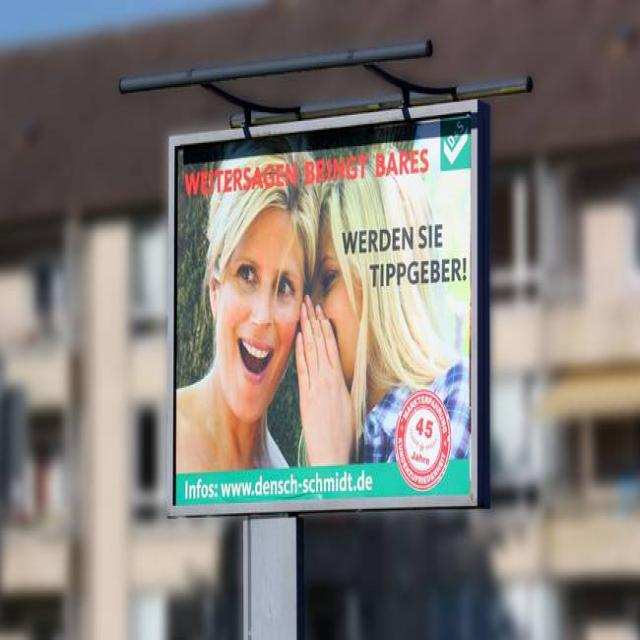Werbetafel frei: (164, 101, 507, 533)
